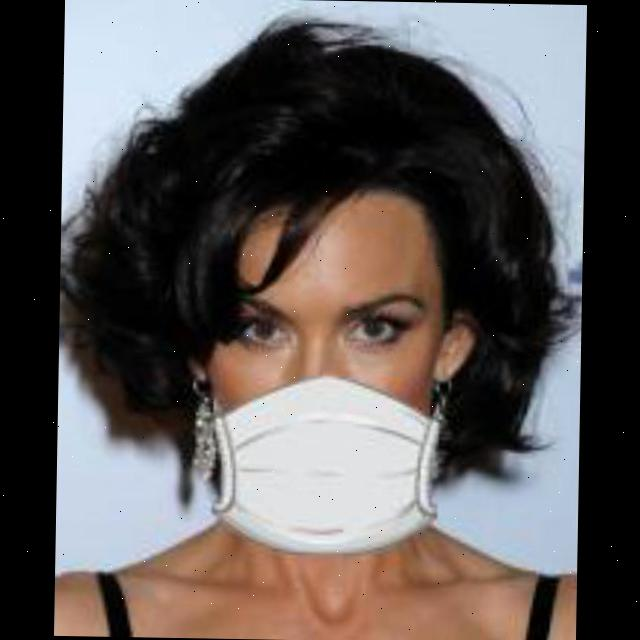suspicion: (162, 126, 472, 568)
